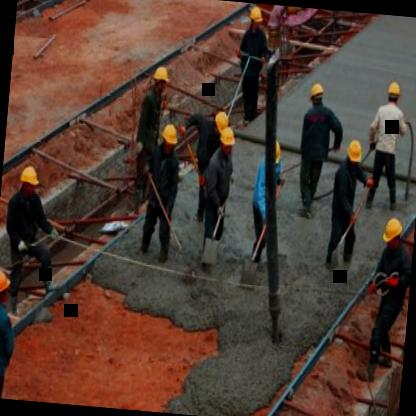helmet: (381, 214, 406, 256), (17, 158, 40, 198), (344, 136, 367, 171), (216, 127, 237, 158), (307, 80, 327, 112), (150, 65, 170, 97), (160, 124, 180, 154), (0, 268, 14, 308), (210, 108, 228, 138), (249, 3, 266, 32), (386, 76, 402, 106)
